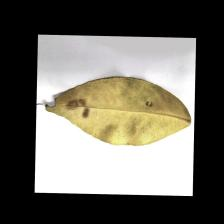canker: (35, 82, 157, 137)
